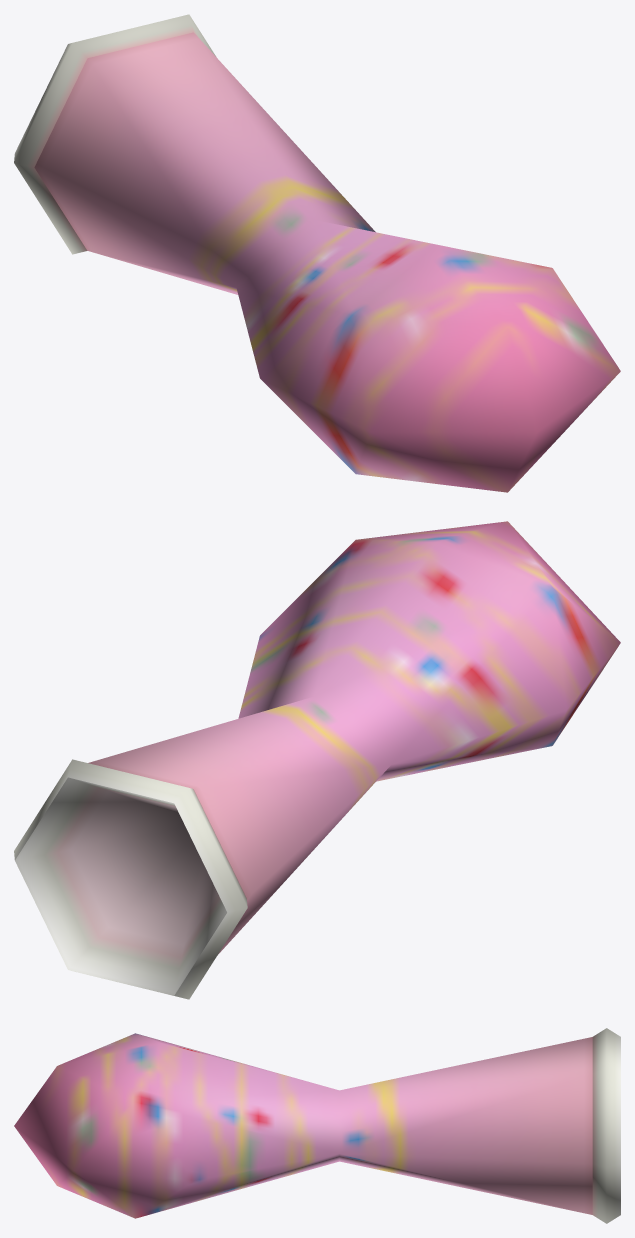
The model's file is jsf_Balloon_07.fbx.
3 views of the same model, one above another, from view 1: azimuth 30°, elevation 25°; view 2: azimuth 150°, elevation 25°; view 3: azimuth 270°, elevation 25° (orthographic). The views are drawn at different scales.
Parts seen in each view (by area): view 1: jsf_Balloon_07; view 2: jsf_Balloon_07; view 3: jsf_Balloon_07.
Part boxes in pixels (x1,y1,x2,y2): jsf_Balloon_07: [14, 14, 620, 492]; jsf_Balloon_07: [14, 521, 620, 999]; jsf_Balloon_07: [14, 1028, 620, 1223].
Bounding box in the file's own units: 1.44 × 1.02 × 3.39.
